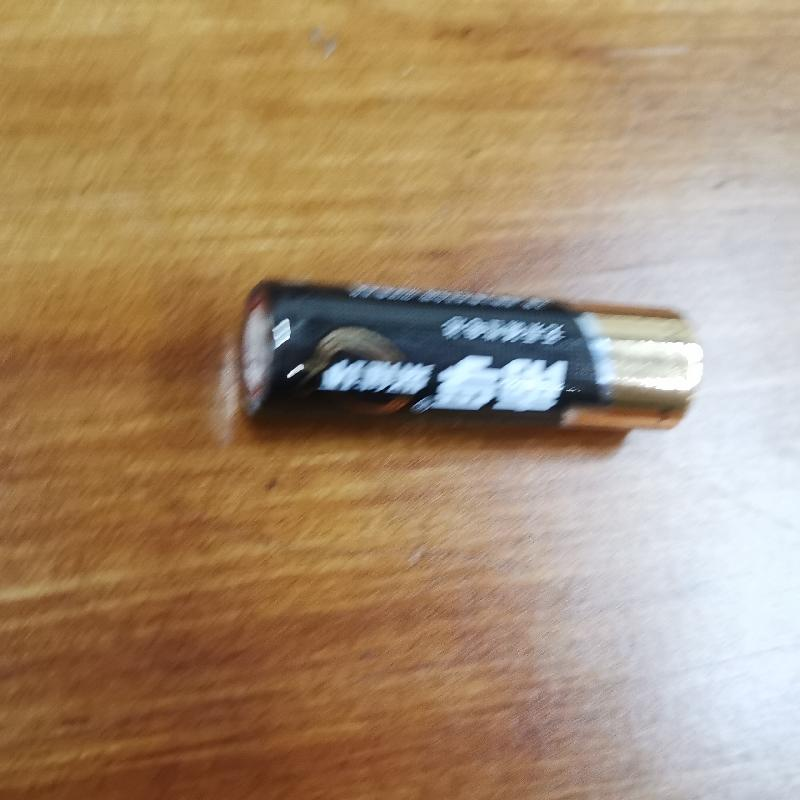battery: (229, 275, 710, 442)
